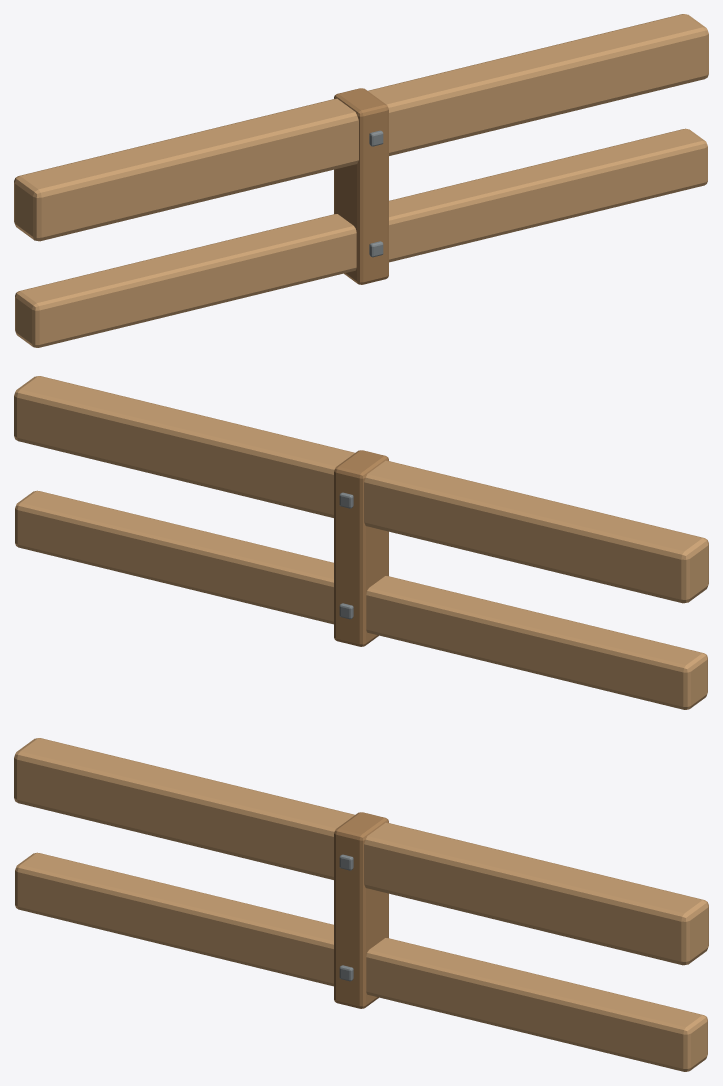
The model's file is Fence_Connection_3m.glb.
The picture shows the model from 3 angles, top to bottom: view 1: azimuth 30°, elevation 25°; view 2: azimuth 150°, elevation 25°; view 3: azimuth 330°, elevation 25°; orthographic projection.
Parts seen in each view (by area): view 1: Fence_Connection_3m; view 2: Fence_Connection_3m; view 3: Fence_Connection_3m.
Part boxes in pixels (x1=…): Fence_Connection_3m: x1=14, y1=14, x2=708, y2=347; Fence_Connection_3m: x1=14, y1=376, x2=708, y2=709; Fence_Connection_3m: x1=14, y1=738, x2=708, y2=1071.
Size of the model in its own units: 3 by 0.74 by 0.255.
